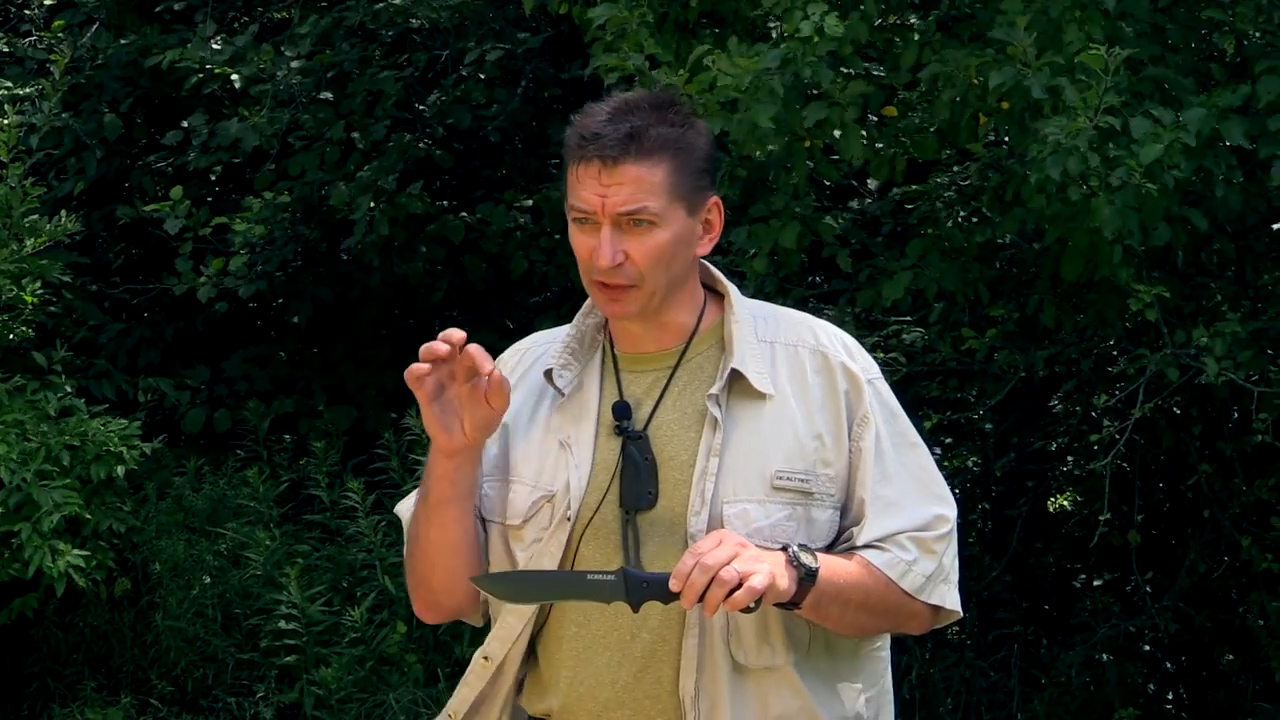knife: (464, 525, 765, 621)
